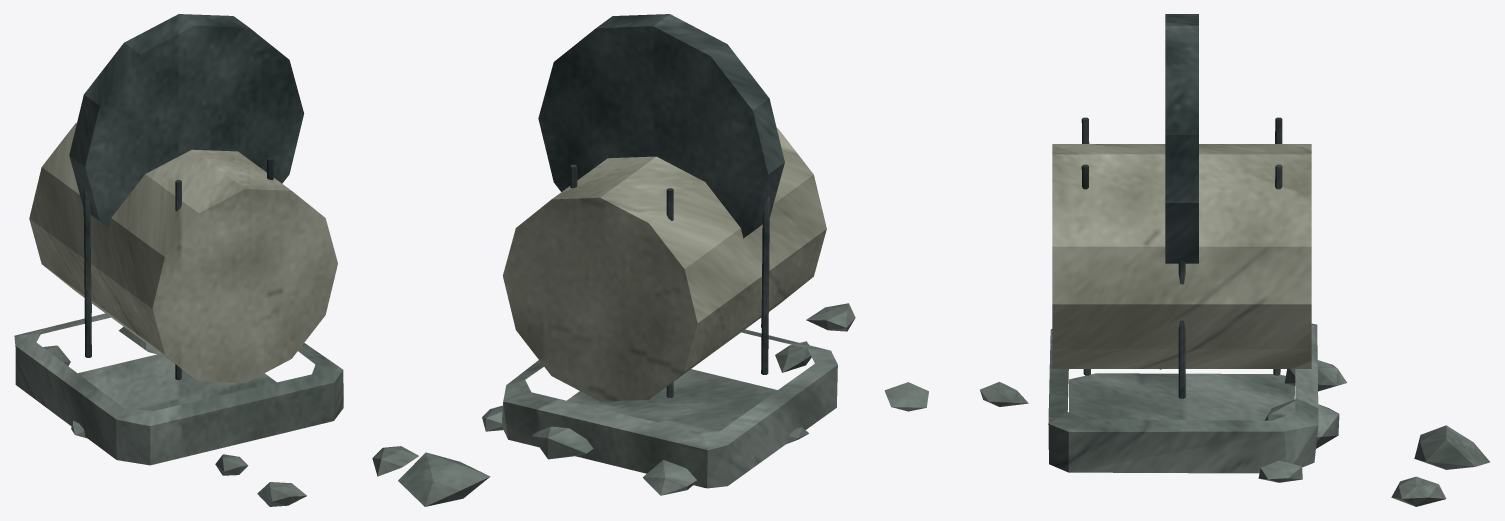
File: 0252_broken_column_02.glb
The picture shows the model from 3 angles, left to right: view 1: azimuth 30°, elevation 25°; view 2: azimuth 150°, elevation 25°; view 3: azimuth 270°, elevation 25°; orthographic projection. The views are drawn at different scales.
Visible parts, largest first — view 1: stone_light, stone_dark, stone; view 2: stone_light, stone_dark, stone; view 3: stone_light, stone, stone_dark.
Part boxes in pixels (box(x1,y1,x2,y2)): stone_light: box(29, 122, 337, 383); stone_dark: box(69, 14, 304, 379); stone: box(14, 313, 343, 506); stone_light: box(503, 128, 826, 401); stone_dark: box(538, 14, 784, 397); stone: box(372, 303, 855, 506); stone_light: box(1052, 144, 1311, 368); stone: box(884, 323, 1489, 506); stone_dark: box(1081, 14, 1282, 398).
Bounding box in the file's own units: 1.56 × 1.99 × 2.71.
Materials: 3 (3 with a texture image).
